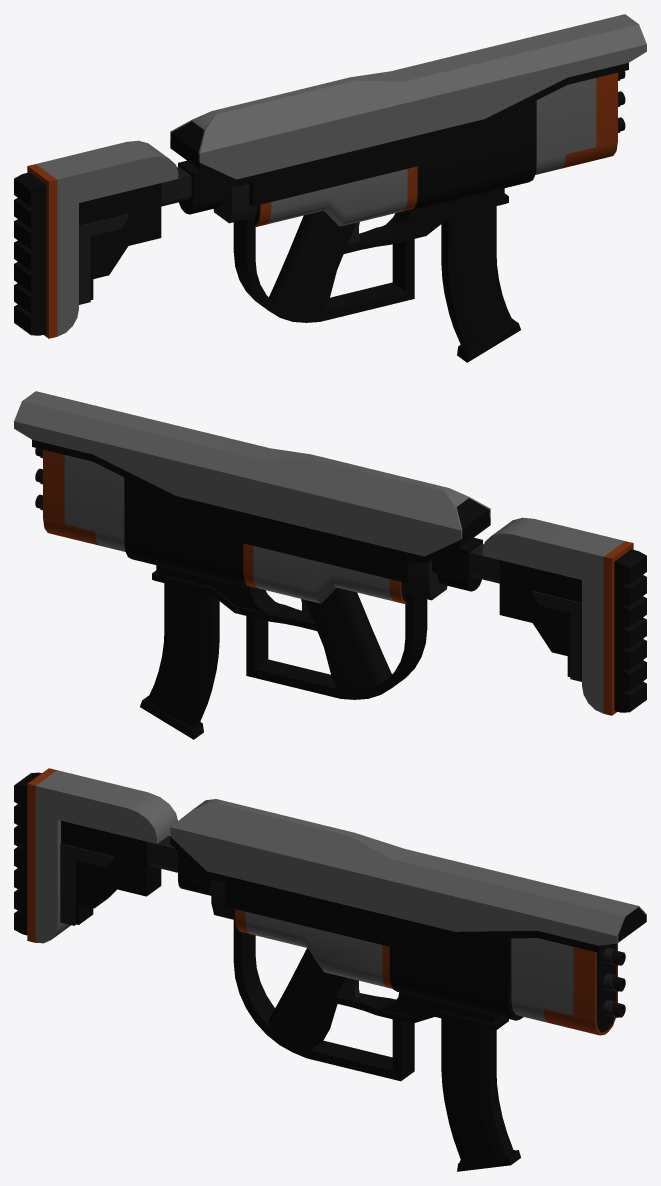
3 views of the same model, one above another, from view 1: azimuth 30°, elevation 25°; view 2: azimuth 150°, elevation 25°; view 3: azimuth 330°, elevation 25° (orthographic).
Visible parts, largest first — view 1: AR_3_Cube.055, Magazine_AR_2_Cube.102; view 2: AR_3_Cube.055, Magazine_AR_2_Cube.102; view 3: AR_3_Cube.055, Magazine_AR_2_Cube.102.
Boxes of the visible parts, x1,y1,x2,y2 form: AR_3_Cube.055: [14, 14, 646, 338]; Magazine_AR_2_Cube.102: [441, 206, 520, 362]; AR_3_Cube.055: [14, 391, 646, 715]; Magazine_AR_2_Cube.102: [140, 583, 219, 739]; AR_3_Cube.055: [14, 768, 646, 1081]; Magazine_AR_2_Cube.102: [441, 1018, 520, 1171].
Bounding box in the file's own units: 1.55 × 0.7452 × 0.131.
